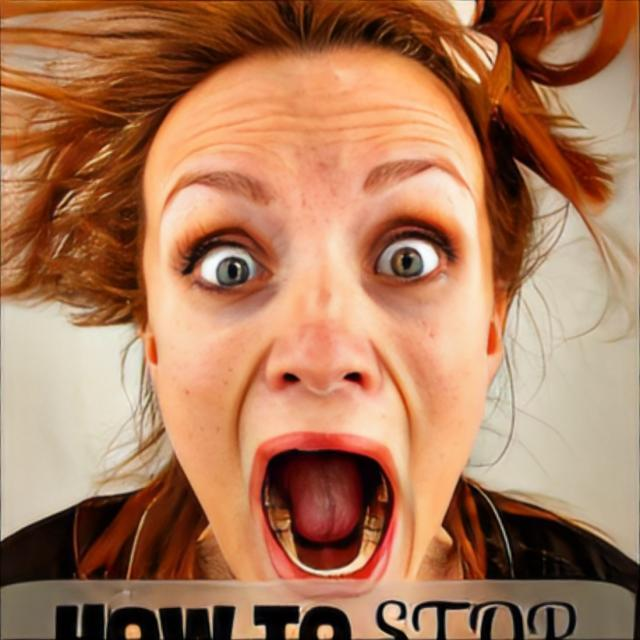Fear: (146, 46, 496, 578)
